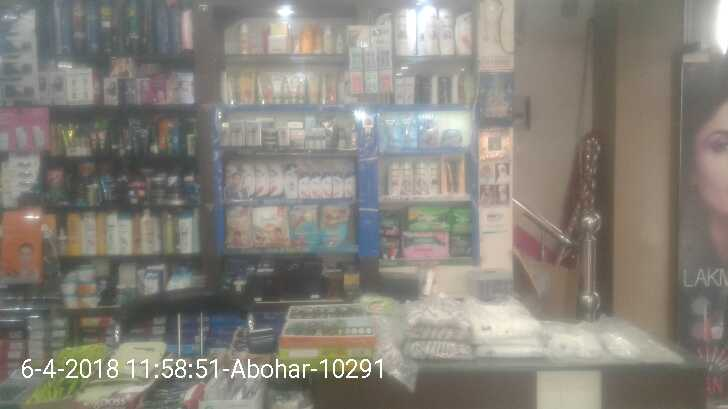venus: (378, 116, 400, 150), (420, 111, 439, 146), (401, 113, 417, 147), (441, 129, 463, 146)
